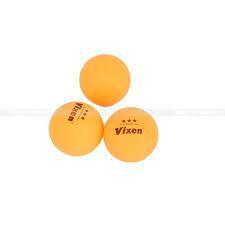orange: (104, 107, 167, 164), (48, 100, 102, 162), (79, 52, 131, 108)
